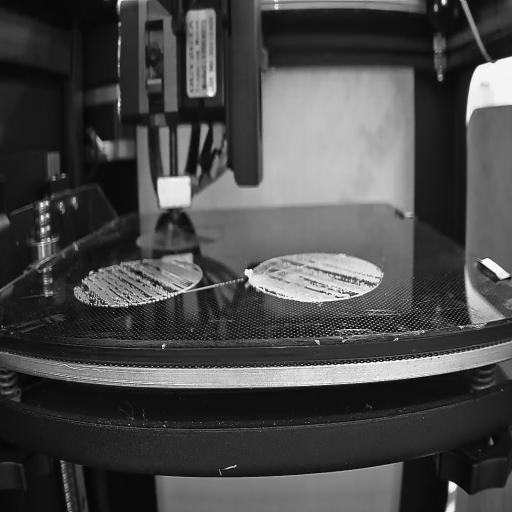under_extrusion: (79, 260, 174, 310), (258, 261, 380, 299), (180, 261, 202, 293)
